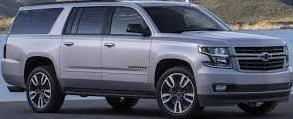SUV: (3, 3, 293, 119)
